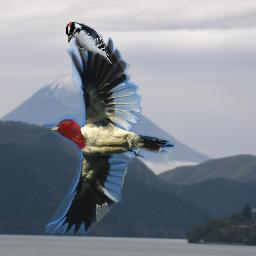Woodpecker: (45, 34, 175, 237), (65, 21, 116, 70)
